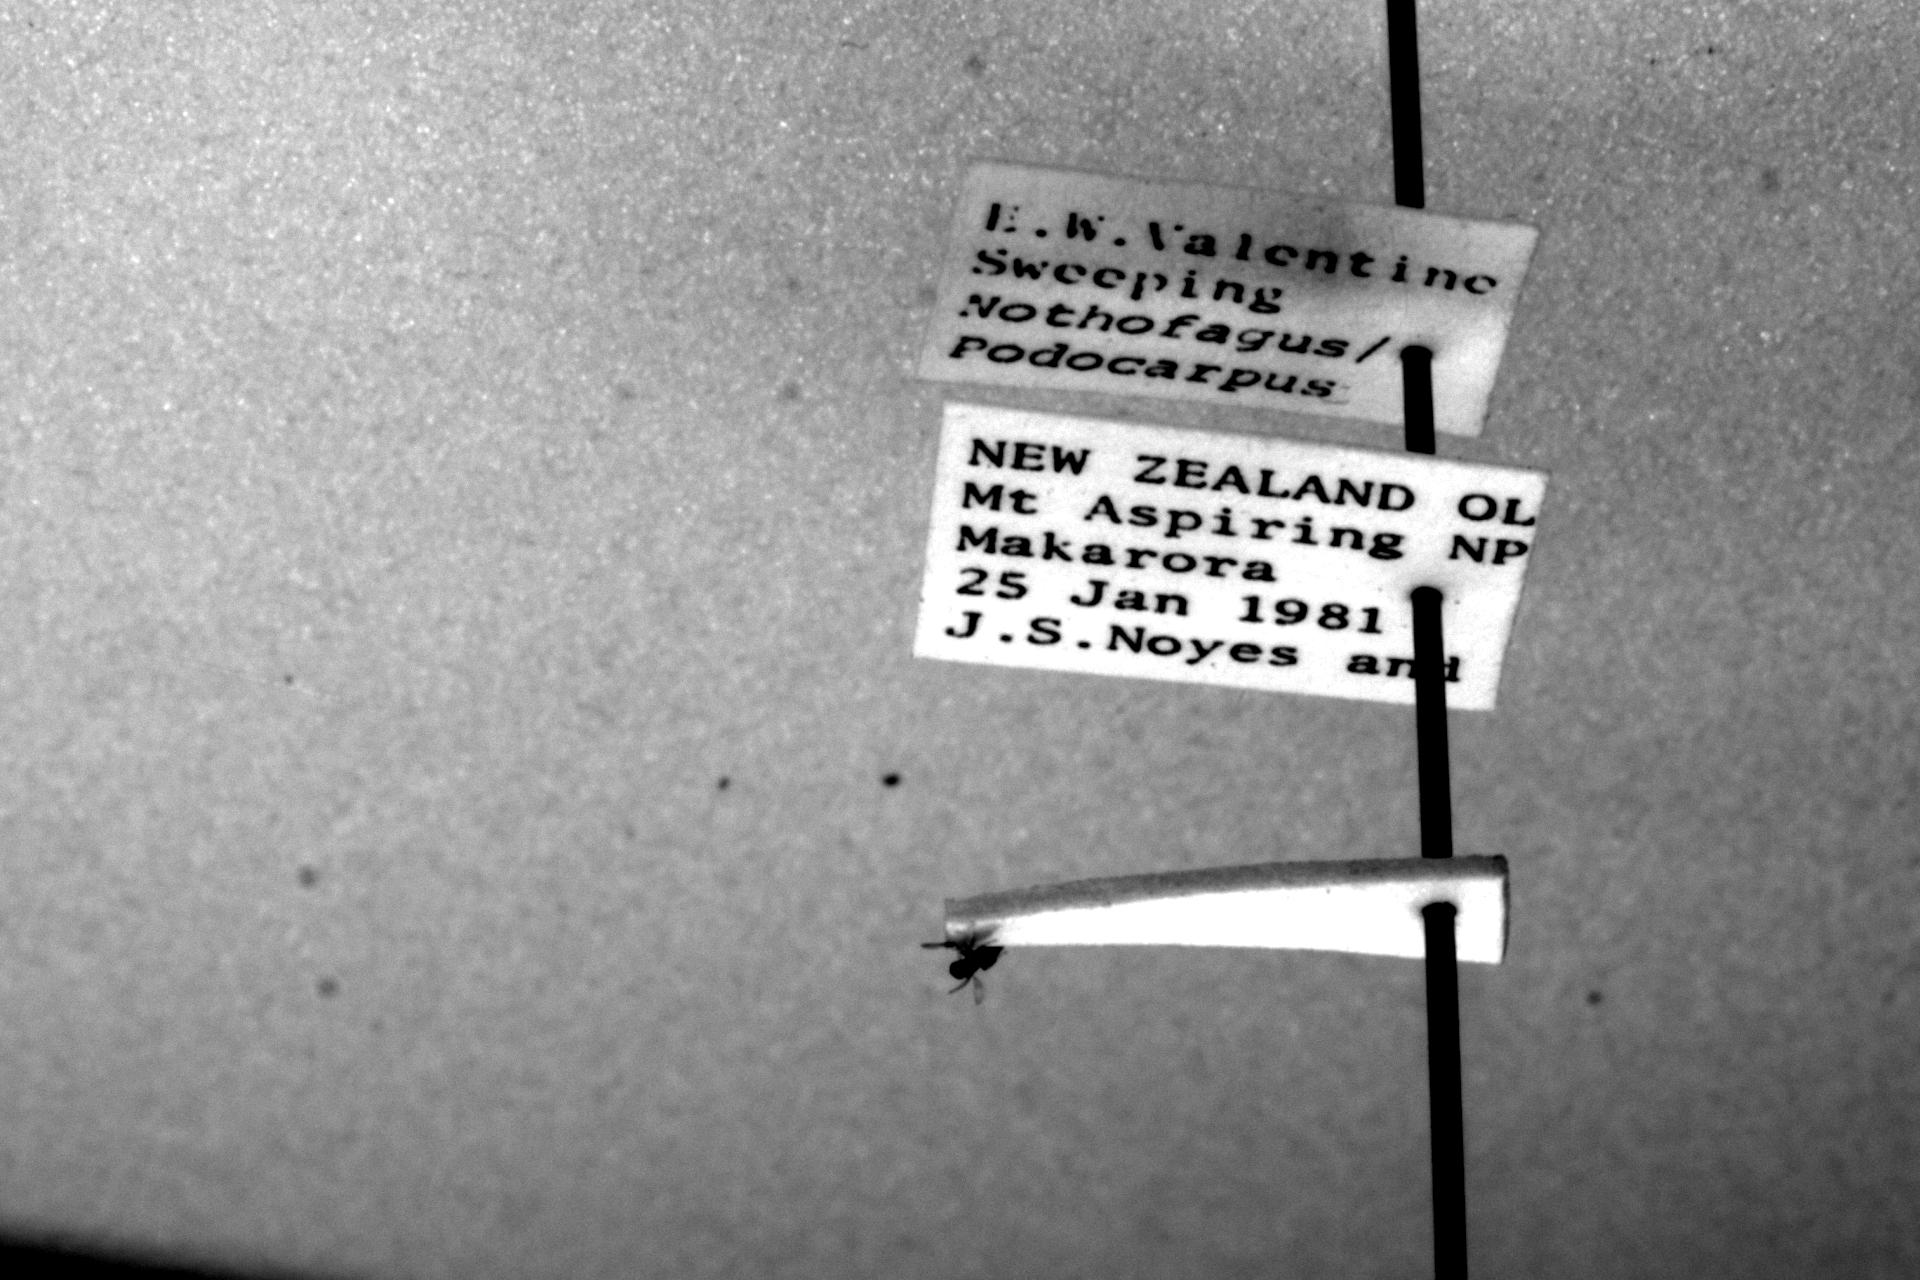typed_label: (915, 401, 1545, 709), (919, 161, 1538, 435)
